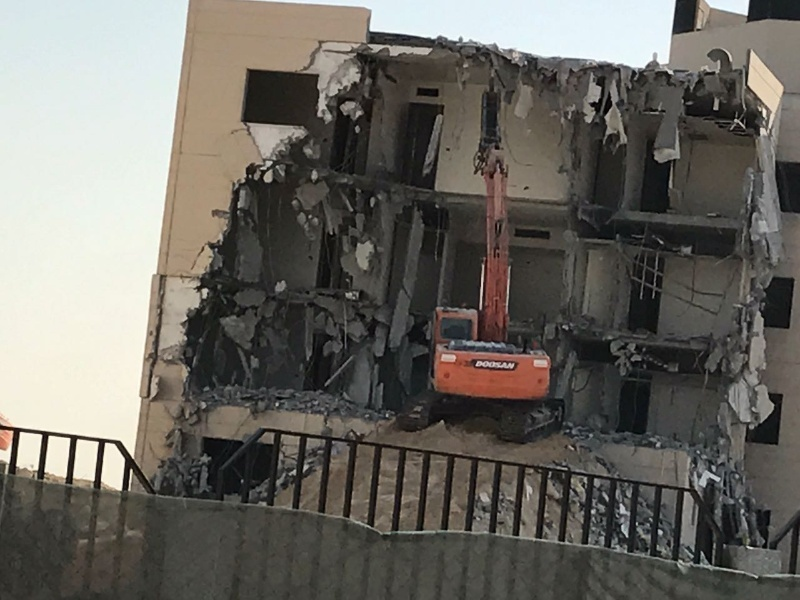text: (481, 360, 496, 372), (497, 360, 512, 372), (475, 360, 480, 372), (513, 360, 517, 372)
